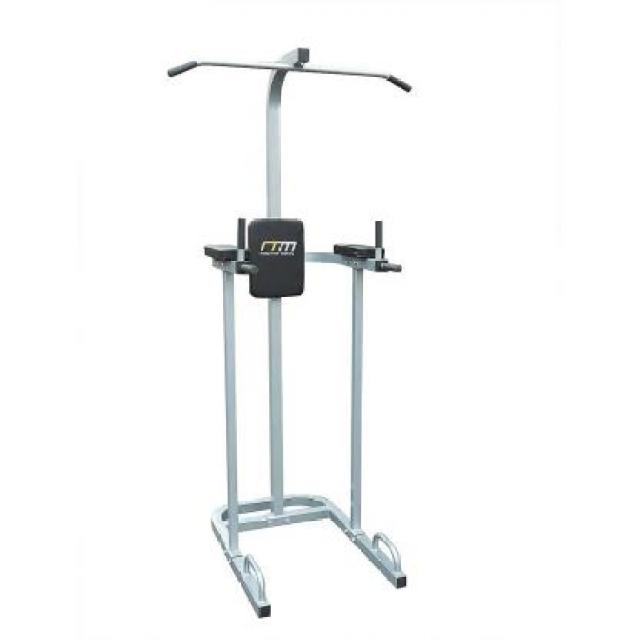chinning dipping: (168, 46, 414, 622)
